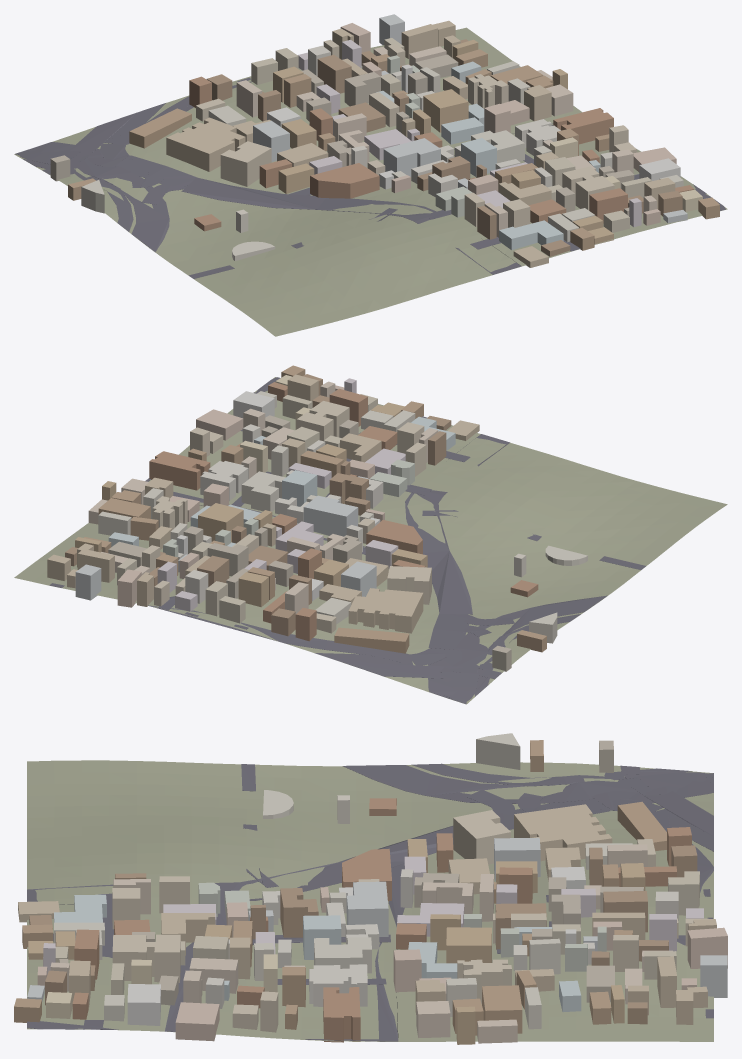
Rendered from chunk_8_3.glb.
3 views of the same model, one above another, from view 1: azimuth 30°, elevation 25°; view 2: azimuth 150°, elevation 25°; view 3: azimuth 270°, elevation 25° (orthographic). The views are drawn at different scales.
Visible parts, largest first — view 1: geometry_186, geometry_187, geometry_185, geometry_195, geometry_59, geometry_15, geometry_61, geometry_6, geometry_1, geometry_134, geometry_32, geometry_22 (+44 smaller); view 2: geometry_186, geometry_187, geometry_185, geometry_195, geometry_206, geometry_61, geometry_1, geometry_134, geometry_32, geometry_16, geometry_15, geometry_59 (+45 smaller); view 3: geometry_186, geometry_195, geometry_185, geometry_32, geometry_187, geometry_15, geometry_1, geometry_61, geometry_2, geometry_193, geometry_6, geometry_16 (+97 smaller).
Part boxes in pixels (left/top/right/bottom): geometry_186: left=14, top=27, right=727, bottom=336; geometry_187: left=181, top=177, right=521, bottom=274; geometry_185: left=166, top=117, right=245, bottom=171; geometry_195: left=70, top=156, right=169, bottom=252; geometry_59: left=310, top=163, right=379, bottom=198; geometry_15: left=220, top=141, right=271, bottom=186; geometry_61: left=383, top=138, right=440, bottom=176; geometry_6: left=423, top=89, right=468, bottom=132; geometry_1: left=553, top=108, right=613, bottom=144; geometry_134: left=129, top=108, right=191, bottom=148; geometry_32: left=562, top=166, right=614, bottom=210; geometry_22: left=499, top=220, right=563, bottom=250; geometry_186: left=14, top=377, right=727, bottom=704; geometry_187: left=405, top=434, right=509, bottom=614; geometry_185: left=348, top=588, right=423, bottom=633; geometry_195: left=450, top=595, right=607, bottom=673; geometry_206: left=148, top=605, right=411, bottom=664; geometry_61: left=303, top=495, right=358, bottom=536; geometry_1: left=149, top=451, right=210, bottom=490; geometry_134: left=334, top=627, right=409, bottom=653; geometry_32: left=296, top=401, right=349, bottom=441; geometry_16: left=241, top=471, right=285, bottom=511; geometry_15: left=387, top=566, right=431, bottom=604; geometry_59: left=366, top=520, right=422, bottom=554; geometry_186: left=27, top=760, right=713, bottom=1041; geometry_195: left=343, top=765, right=651, bottom=803; geometry_185: left=514, top=804, right=612, bottom=861; geometry_32: left=112, top=934, right=180, bottom=982; geometry_187: left=27, top=826, right=509, bottom=904; geometry_15: left=453, top=810, right=510, bottom=864; geometry_1: left=323, top=987, right=360, bottom=1042; geometry_61: left=346, top=881, right=388, bottom=936; geometry_2: left=309, top=964, right=367, bottom=1006; geometry_193: left=411, top=763, right=625, bottom=786; geometry_6: left=446, top=927, right=491, bottom=963; geometry_16: left=314, top=937, right=371, bottom=973.
Size of the model in its own units: 260 by 25.88 by 260.
